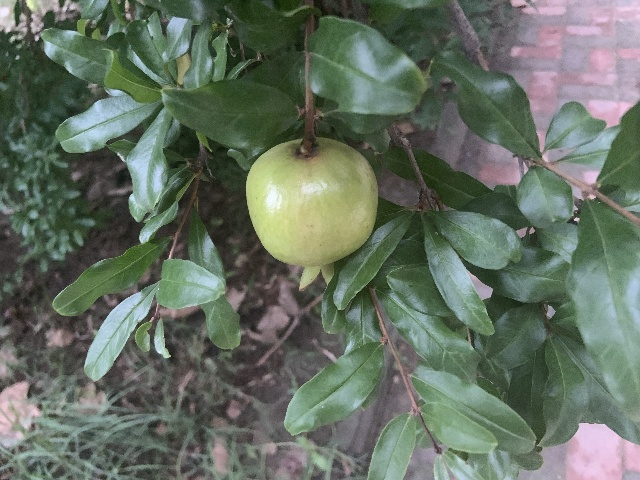mid-growth: (245, 137, 379, 290)
